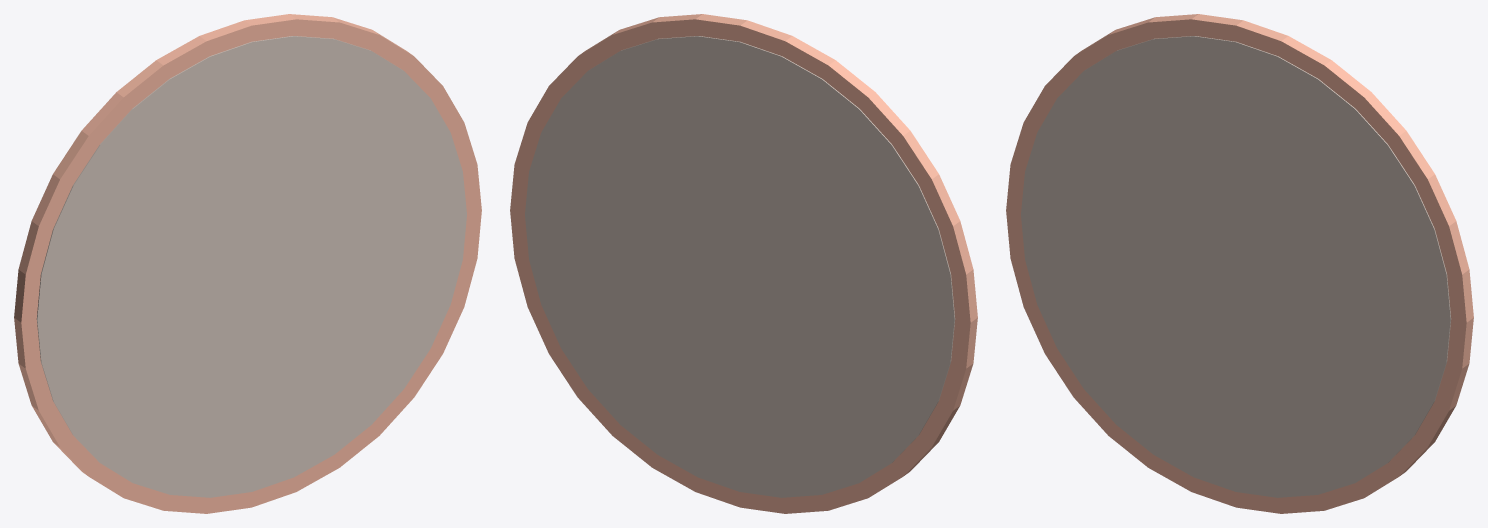
File: sayılıkyuvarlak.fbx
The picture shows the model from 3 angles, left to right: view 1: azimuth 30°, elevation 25°; view 2: azimuth 150°, elevation 25°; view 3: azimuth 330°, elevation 25°; orthographic projection.
Visible parts, largest first — view 1: Cylinder; view 2: Cylinder; view 3: Cylinder.
Boxes of the visible parts, left/top/right/bottom form: Cylinder: left=14, top=14, right=481, bottom=513; Cylinder: left=510, top=14, right=977, bottom=513; Cylinder: left=1006, top=14, right=1473, bottom=513.
Size of the model in its own units: 759 by 759 by 23.98.
